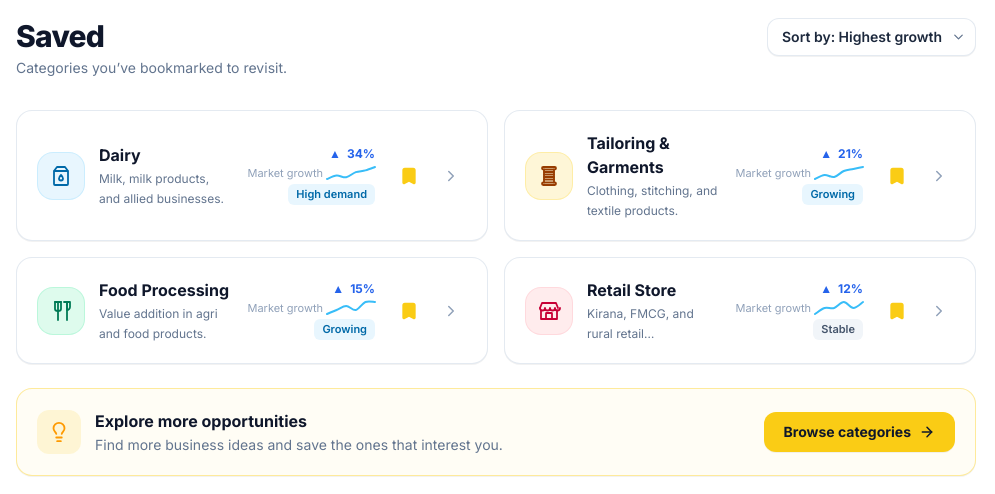
it: SavedView — Filled State › sorts categories by name A-Z and Z-A
This screenshot has width=995, height=494.
Step 1. Select "Sort by: Name (A-Z)" in the dropdown named "Sort saved categories" → (872,37), box [767, 18, 976, 56]
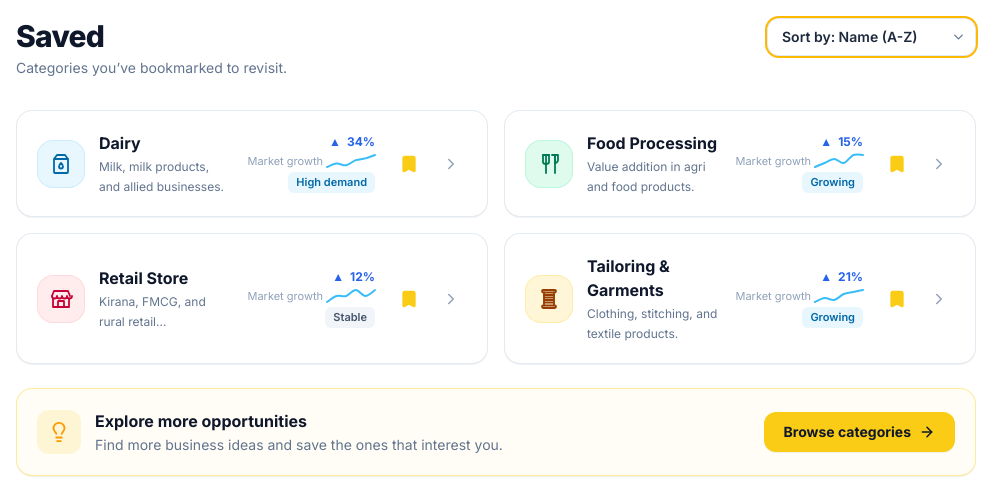
Check: the headings read "Dairy", "Food Processing", "Retail Store", "Tailoring & Garments", in this order, box [99, 133, 141, 153]; [587, 131, 720, 155]; [99, 268, 188, 288]; [587, 256, 670, 300]
Step 2. Select "Sort by: Name (Z-A)" in the dropdown named "Sort saved categories" → (872,37), box [767, 18, 976, 56]
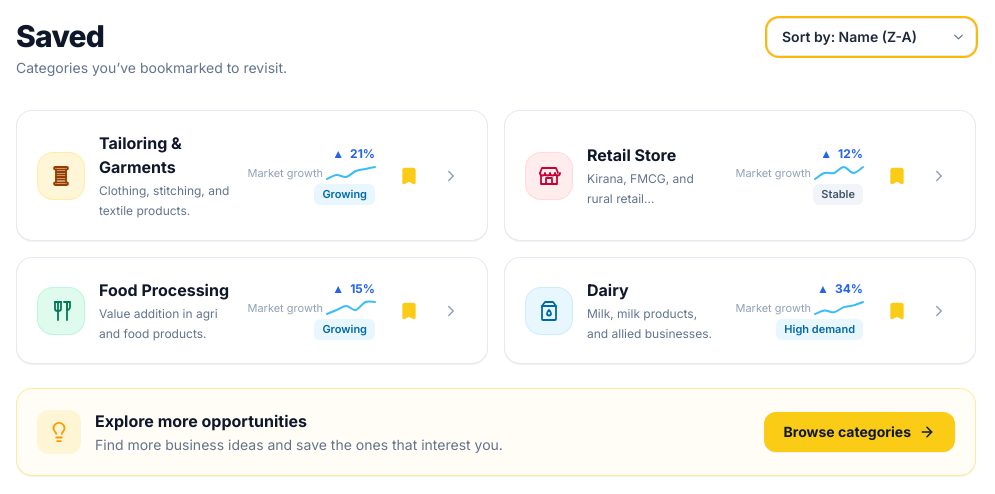
Check: the headings read "Tailoring & Garments", "Retail Store", "Food Processing", "Dairy", in this order, box [99, 133, 182, 177]; [587, 145, 676, 165]; [99, 278, 232, 302]; [587, 280, 629, 300]
